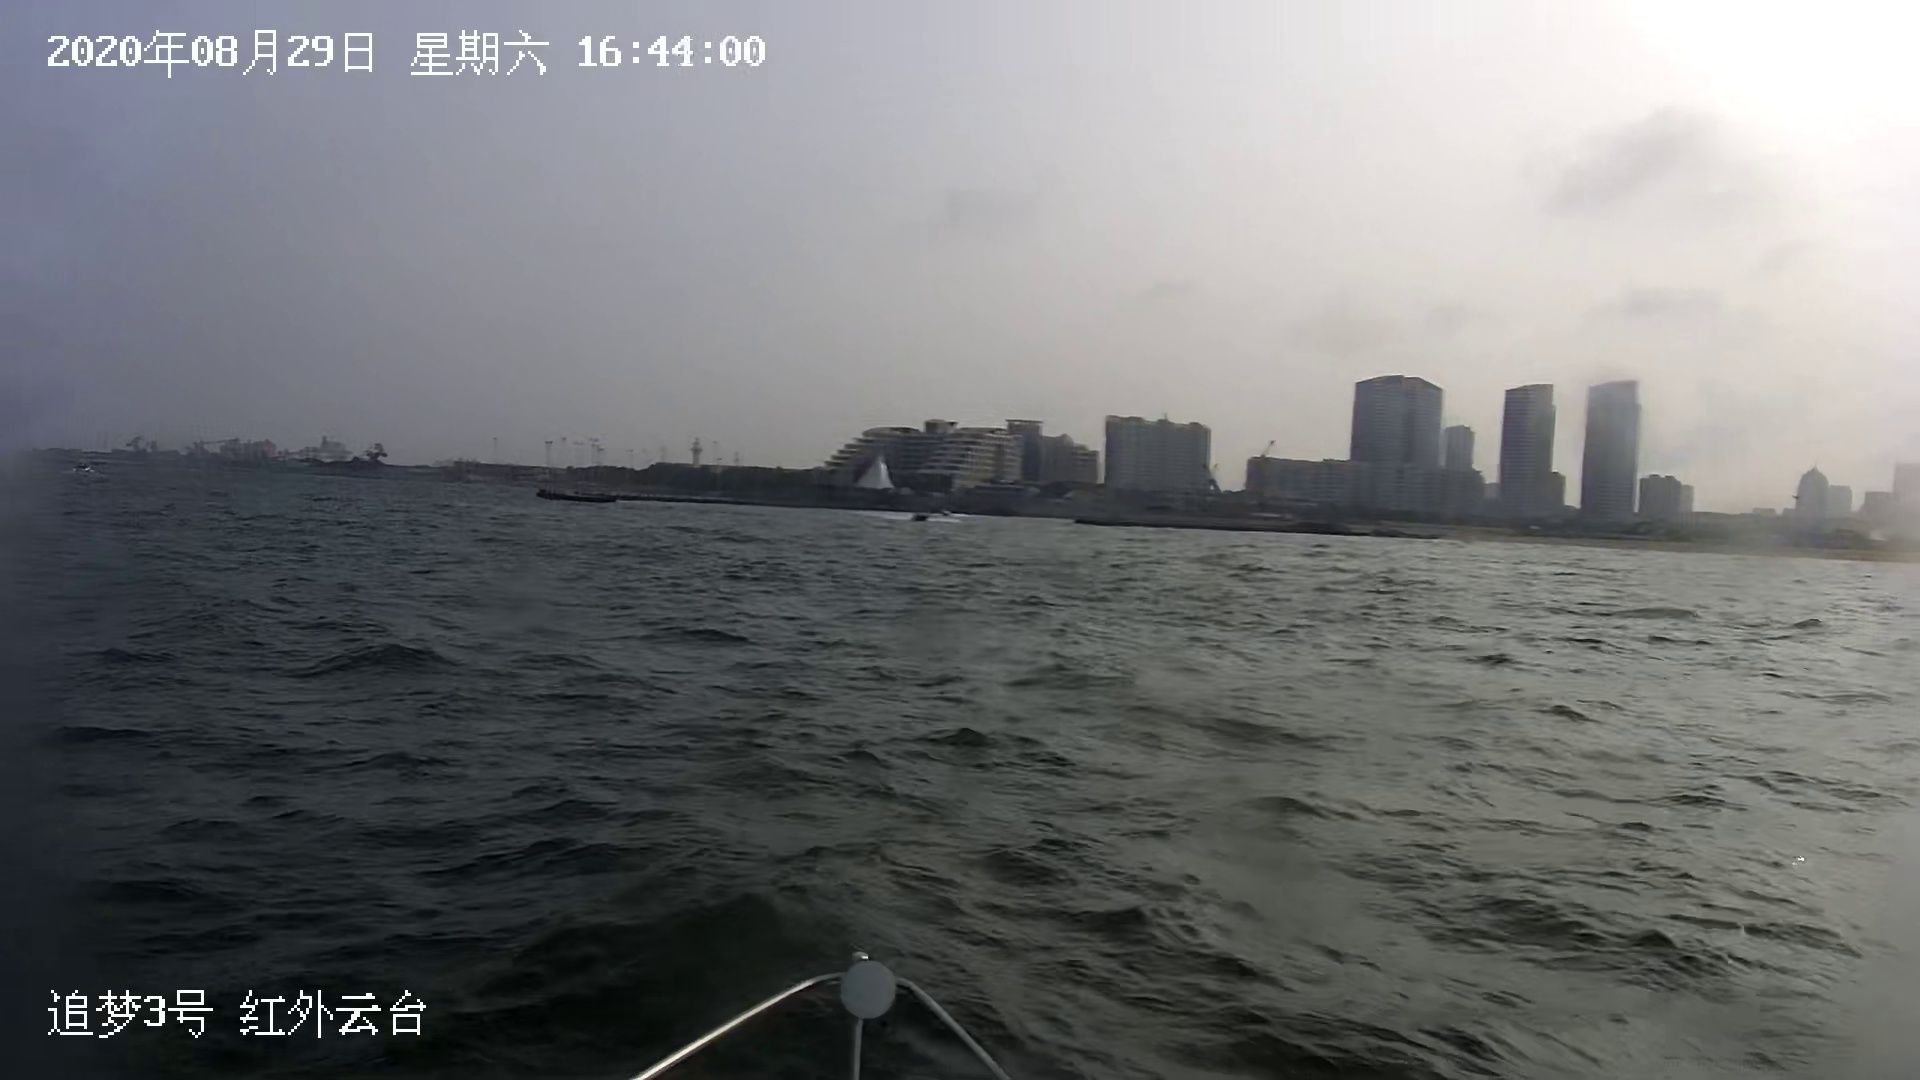barrier: (535, 487, 621, 506)
coast: (146, 373, 1920, 562)
